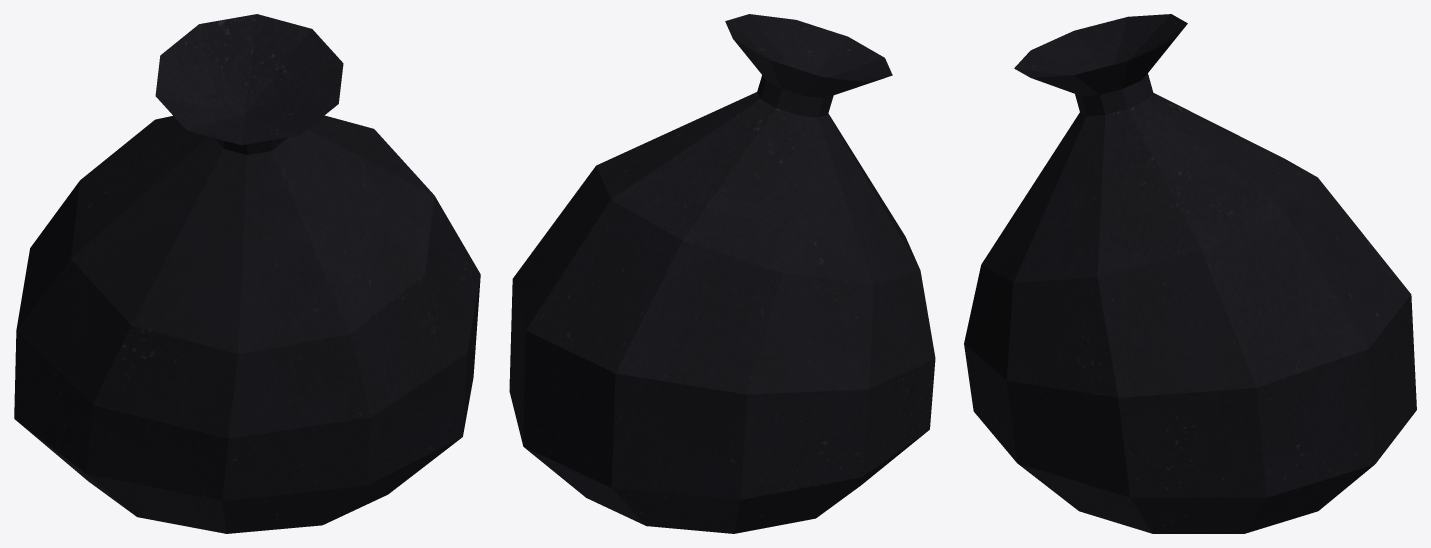
File: TrashBag2.fbx
3 views of the same model, side by side, from view 1: azimuth 30°, elevation 25°; view 2: azimuth 150°, elevation 25°; view 3: azimuth 270°, elevation 25° (orthographic). The views are drawn at different scales.
Parts seen in each view (by area): view 1: Trashbag2; view 2: Trashbag2; view 3: Trashbag2.
Part boxes in pixels (x1,y1,x2,y2): Trashbag2: [14, 14, 480, 533]; Trashbag2: [509, 14, 935, 533]; Trashbag2: [964, 14, 1416, 533].
Bounding box in the file's own units: 32.56 × 35.11 × 37.04.
